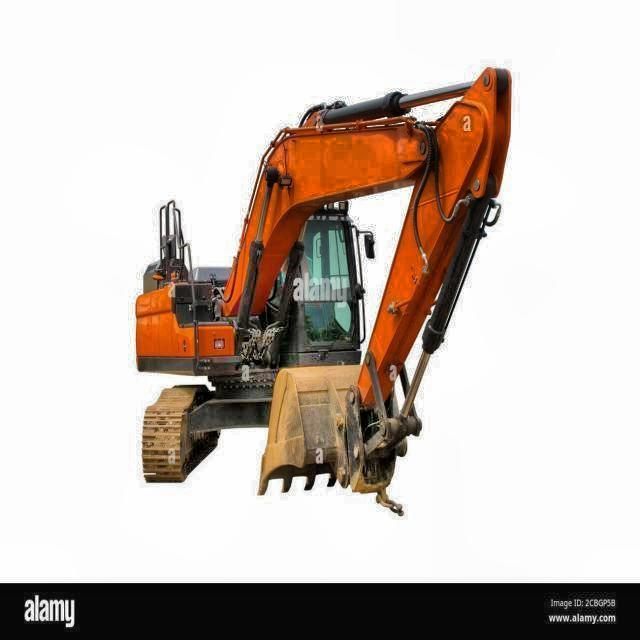excavator: (131, 62, 513, 504)
